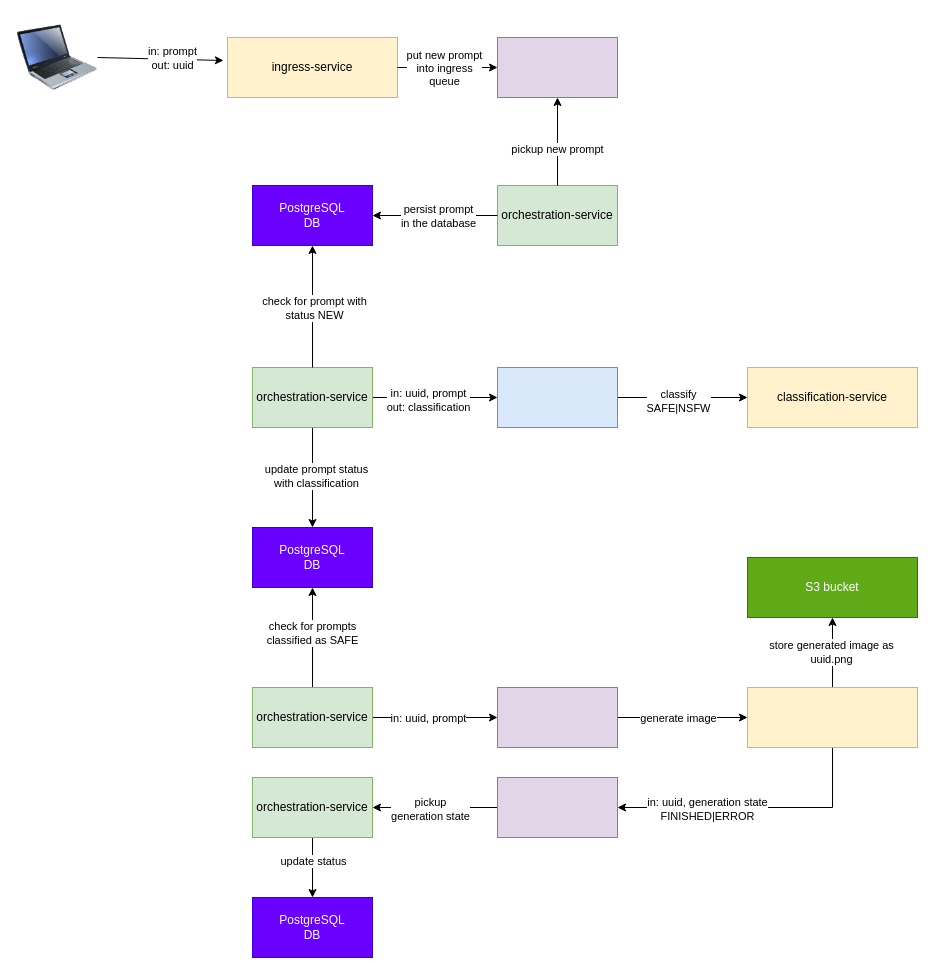
Some shapes in this 935 by 975 pixel diagram are drawn without their labels. Each missing label, with the centre of its shape:
"image-generation-service" belongs at pixel 832 717.
"RabbitMQ Queue: generation_request" belongs at pixel 557 717.
"RabbitMQ Queue: generation_response" belongs at pixel 557 807.
"RabbitMQ Queue: ingress" belongs at pixel 557 67.
"REST-API classification" belongs at pixel 557 397.
